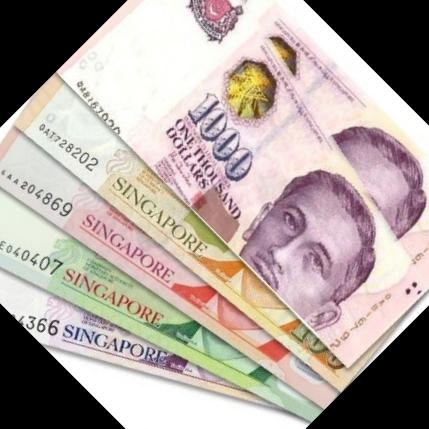1000SingaporeDollar: (54, 0, 429, 364)
